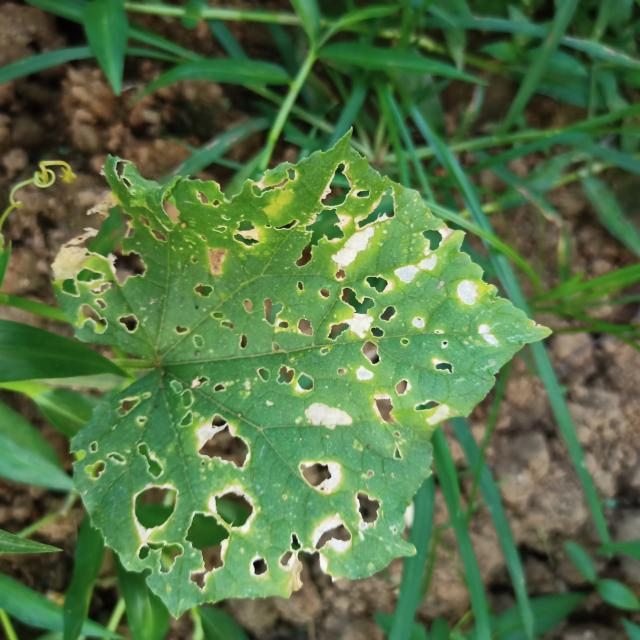disease_cucumber: (64, 188, 507, 585)
